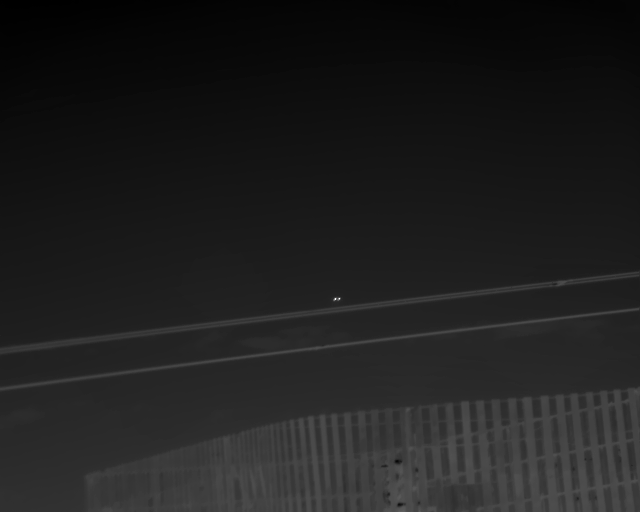Target: (334, 297, 342, 303)
